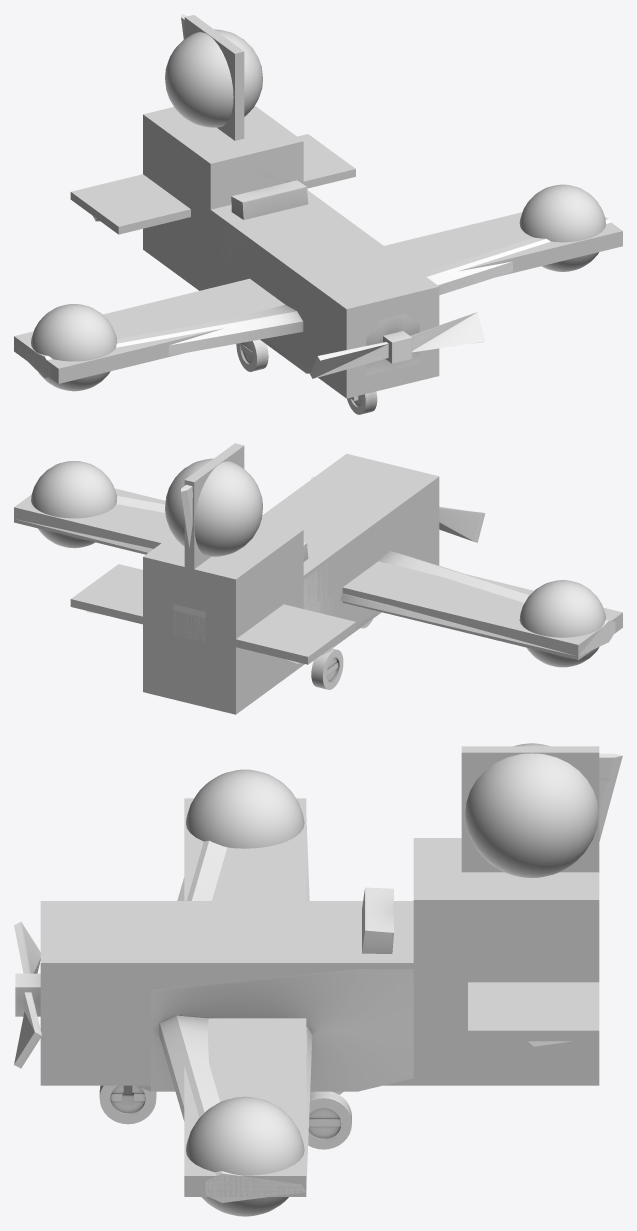
File: airplane.glb
The picture shows the model from 3 angles, top to bottom: view 1: azimuth 30°, elevation 25°; view 2: azimuth 150°, elevation 25°; view 3: azimuth 270°, elevation 25°; orthographic projection. The views are drawn at different scales.
Parts seen in each view (by area): view 1: Cube.008, body, Cube.009, Cube.014, Cube.013, Sphere.004, Sphere.002, Sphere.003, Cube.012, rotor, Cube.010, Cube.011 (+1 smaller); view 2: Cube.008, Cube.009, Cube.014, Sphere.004, body, Cube.013, Sphere.002, Sphere.003, Cube.012, Cube.011, Cube.010, rotor (+3 smaller); view 3: Cube.008, body, Cube.009, Sphere.004, Cube.013, Sphere.003, Cube.011, Sphere.002, Cube.014, Cube.010, rotor, wheel_fl.001 (+1 smaller).
Boxes of the visible parts, left/top/right/bottom form: Cube.008: left=143, top=160, right=439, bottom=398; body: left=14, top=14, right=610, bottom=400; Cube.009: left=143, top=106, right=303, bottom=209; Cube.014: left=14, top=278, right=284, bottom=383; Cube.013: left=384, top=212, right=622, bottom=276; Sphere.004: left=165, top=29, right=262, bottom=127; Sphere.002: left=31, top=304, right=116, bottom=391; Sphere.003: left=519, top=184, right=605, bottom=271; Cube.012: left=70, top=174, right=190, bottom=234; rotor: left=310, top=312, right=485, bottom=378; Cube.010: left=184, top=15, right=244, bottom=140; Cube.011: left=297, top=134, right=355, bottom=188; Cube.008: left=143, top=453, right=439, bottom=714; Cube.009: left=143, top=520, right=303, bottom=625; Cube.014: left=342, top=561, right=622, bottom=660; Sphere.004: left=165, top=458, right=262, bottom=556; body: left=16, top=484, right=615, bottom=663; Cube.013: left=14, top=488, right=172, bottom=554; Sphere.002: left=519, top=580, right=605, bottom=667; Sphere.003: left=31, top=461, right=116, bottom=548; Cube.012: left=236, top=604, right=355, bottom=664; Cube.011: left=70, top=564, right=142, bottom=624; Cube.010: left=184, top=443, right=244, bottom=569; rotor: left=310, top=476, right=485, bottom=542; Cube.008: left=40, top=901, right=599, bottom=1085; body: left=122, top=753, right=622, bottom=1202; Cube.009: left=413, top=838, right=599, bottom=962; Sphere.004: left=465, top=743, right=598, bottom=877; Cube.013: left=184, top=1018, right=306, bottom=1196; Sphere.003: left=186, top=1096, right=304, bottom=1216; Cube.011: left=468, top=982, right=599, bottom=1041; Sphere.002: left=186, top=769, right=304, bottom=848; Cube.014: left=184, top=798, right=306, bottom=900; Cube.010: left=461, top=746, right=599, bottom=872; rotor: left=14, top=922, right=41, bottom=1068; wheel_fl.001: left=308, top=1091, right=351, bottom=1149.
Size of the model in its own units: 3.56 by 1.63 by 2.43.
Materials: 2 (2 with a texture image).
